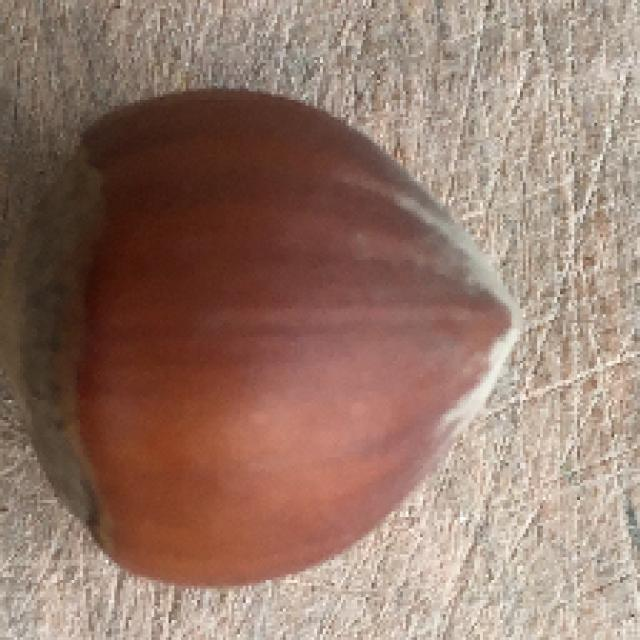damagedHazelnut: (1, 89, 533, 592)
